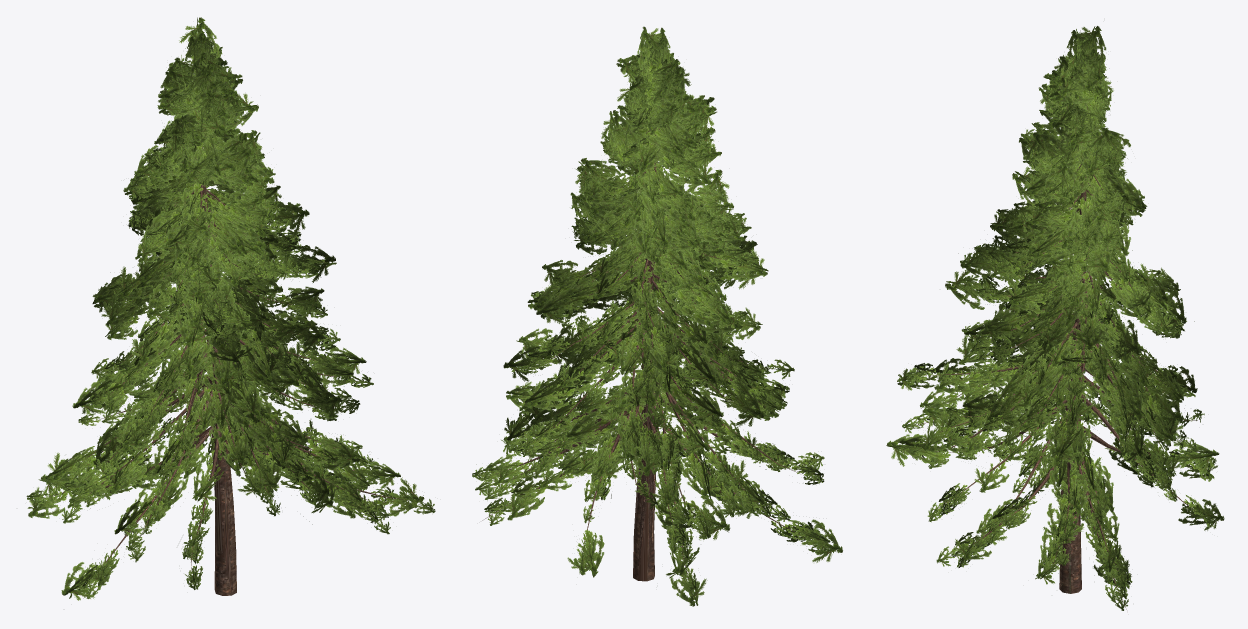
Rendered from ez-pine-large-a.glb.
The picture shows the model from 3 angles, left to right: view 1: azimuth 30°, elevation 25°; view 2: azimuth 150°, elevation 25°; view 3: azimuth 270°, elevation 25°; orthographic projection. The views are drawn at different scales.
Visible parts, largest first — view 1: mid, near; view 2: mid, near; view 3: mid, near.
Part boxes in pixels (x1,y1,x2,y2): mid: (27,17,424,600); near: (26,29,435,598); mid: (483,26,842,606); near: (472,35,830,593); mid: (886,26,1224,590); near: (898,30,1215,610).
Bounding box in the file's own units: 13.18 × 20.47 × 11.6.
Materials: 1 (1 with a texture image).
